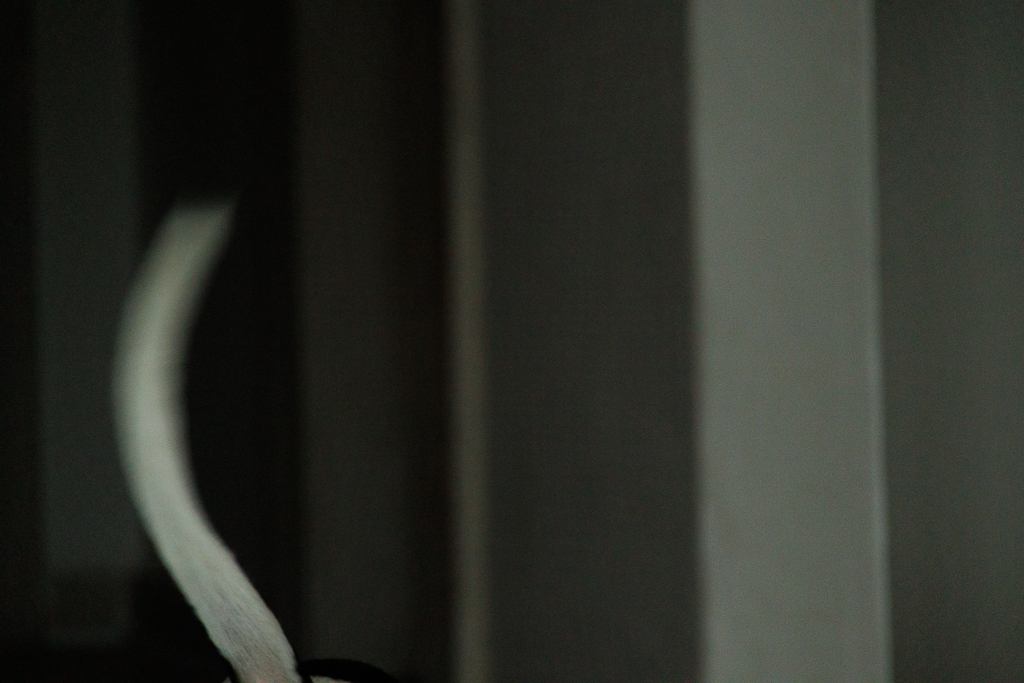Dog: (92, 182, 436, 683)
